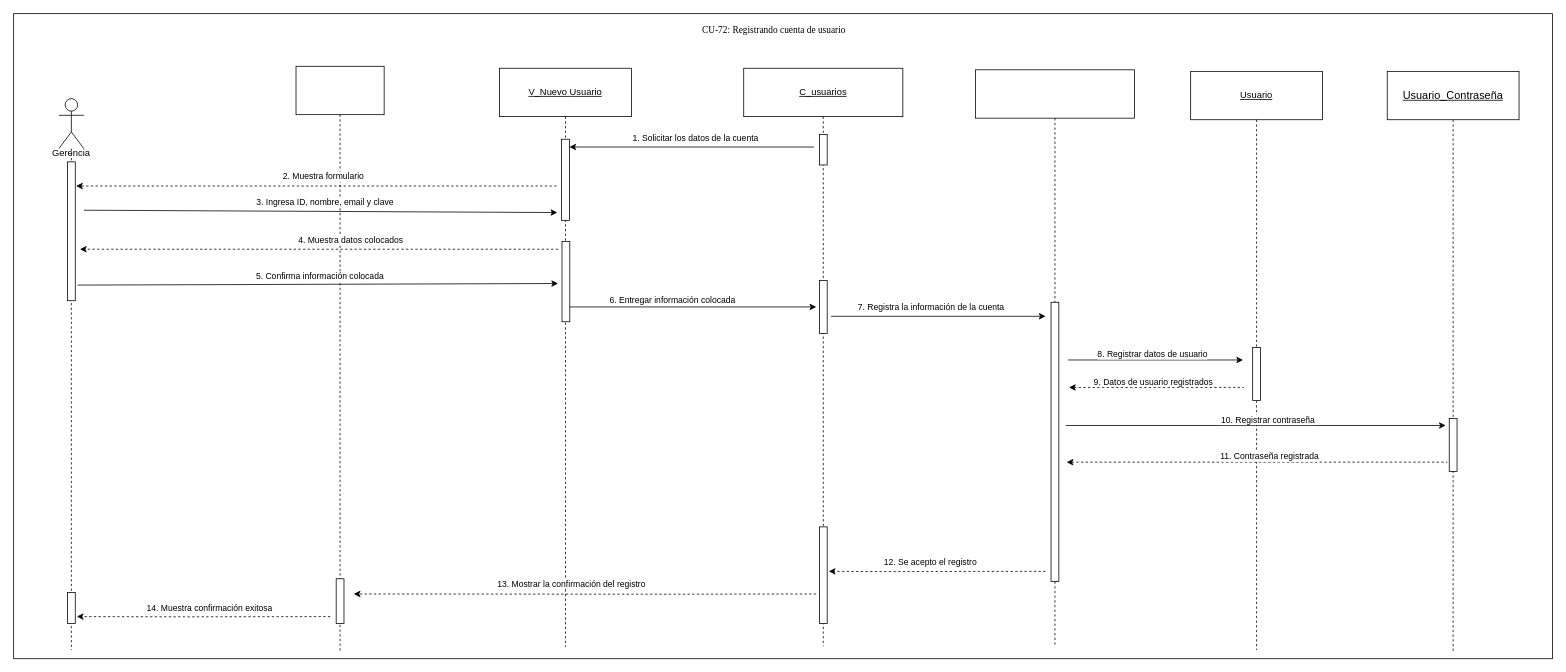
Some shapes in this 1566 by 672 pixel diagram are drawn without their labels. The box of each missing label's shape, as (x1, y1, x2, y2) in pixels:
C_Postgre: (975, 69, 1135, 647)
V_ Usuarios: (295, 66, 384, 651)
